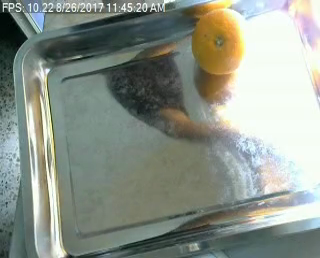Orange: (192, 9, 250, 75)
